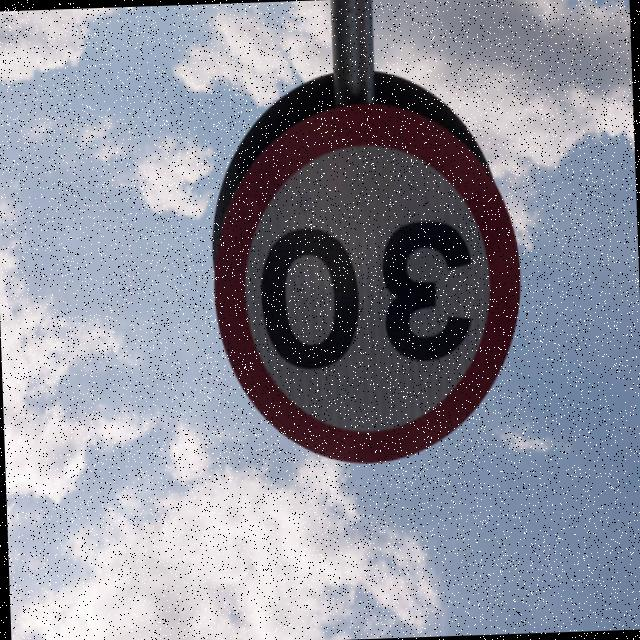speed_limit_30: (197, 94, 542, 481)
